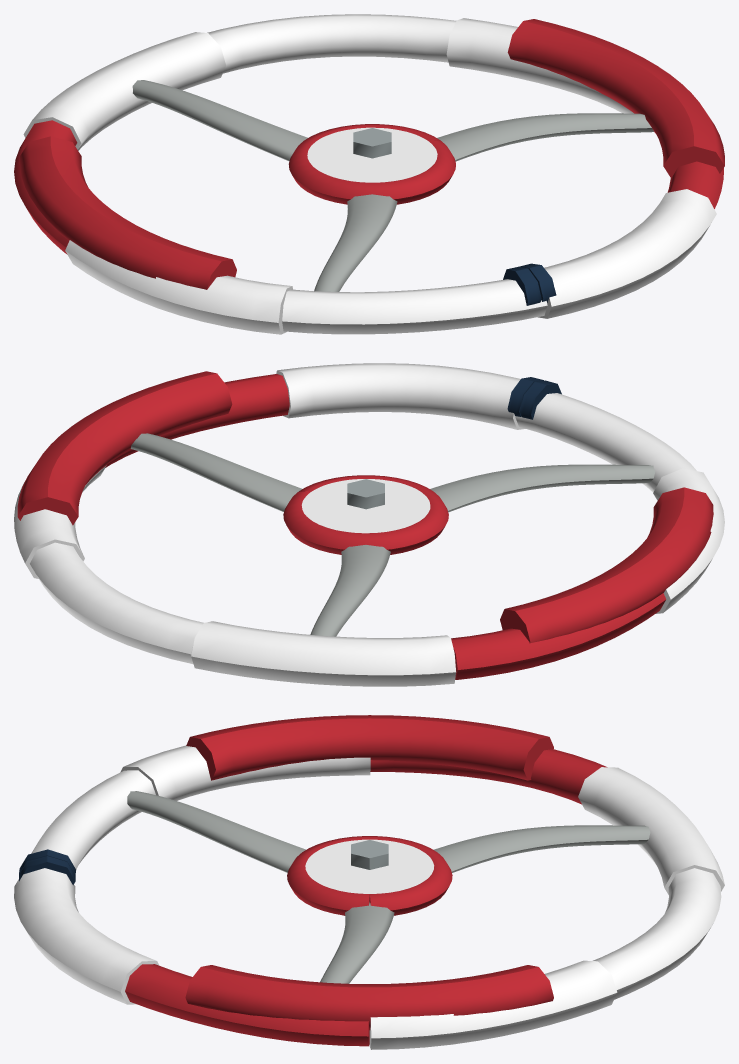
The model's file is Wheel_09_R_朱差し・折返し.glb.
3 renders of one model, top to bottom at view 1: azimuth 30°, elevation 25°; view 2: azimuth 150°, elevation 25°; view 3: azimuth 270°, elevation 25°, orthographic.
Parts seen in each view (by area): view 1: Wheel_09_R; view 2: Wheel_09_R; view 3: Wheel_09_R.
Part boxes in pixels (x1,y1,x2,y2): Wheel_09_R: (14,14,724,334); Wheel_09_R: (14,363,724,686); Wheel_09_R: (14,715,724,1049).
Bounding box in the file's own units: 0.326 × 0.0299 × 0.3262.
4 materials, 4 textured.
